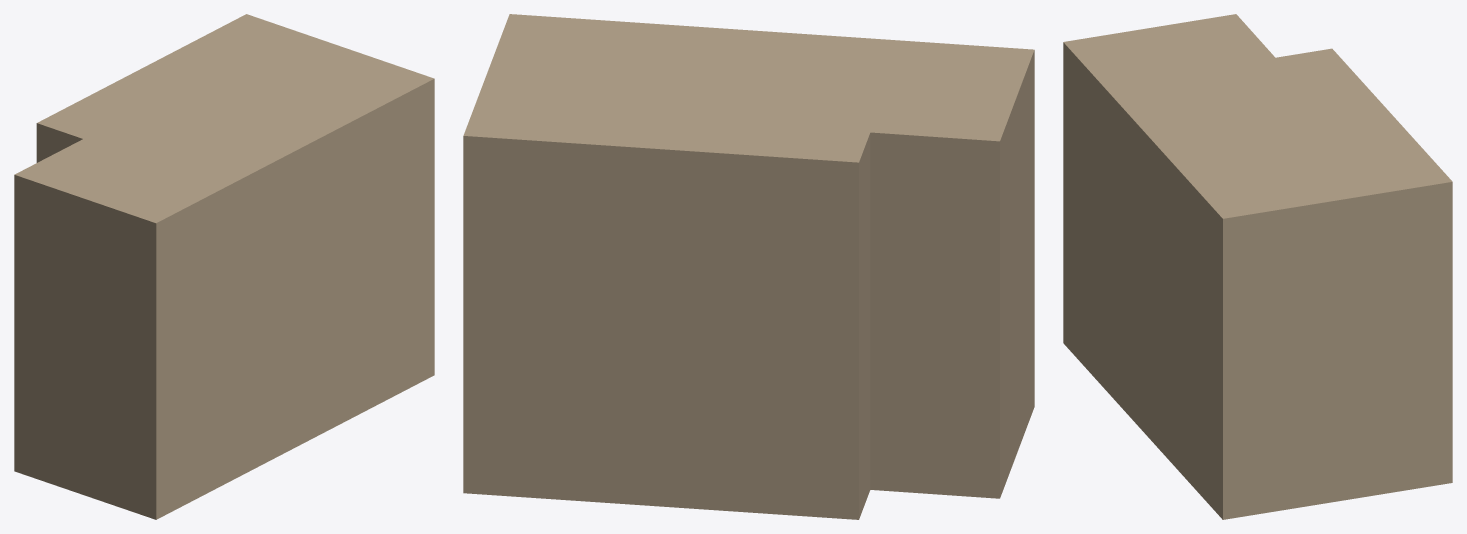
Rendered from bld_107715991.dae.
3 views of the same model, side by side, from view 1: azimuth 30°, elevation 25°; view 2: azimuth 150°, elevation 25°; view 3: azimuth 270°, elevation 25° (orthographic). The views are drawn at different scales.
Visible parts, largest first — view 1: bld_107715991; view 2: bld_107715991; view 3: bld_107715991.
Boxes of the visible parts, x1,y1,x2,y2 form: bld_107715991: [14, 14, 434, 519]; bld_107715991: [463, 14, 1034, 519]; bld_107715991: [1063, 14, 1452, 519].
Size of the model in its own units: 11.67 by 9.38 by 8.
